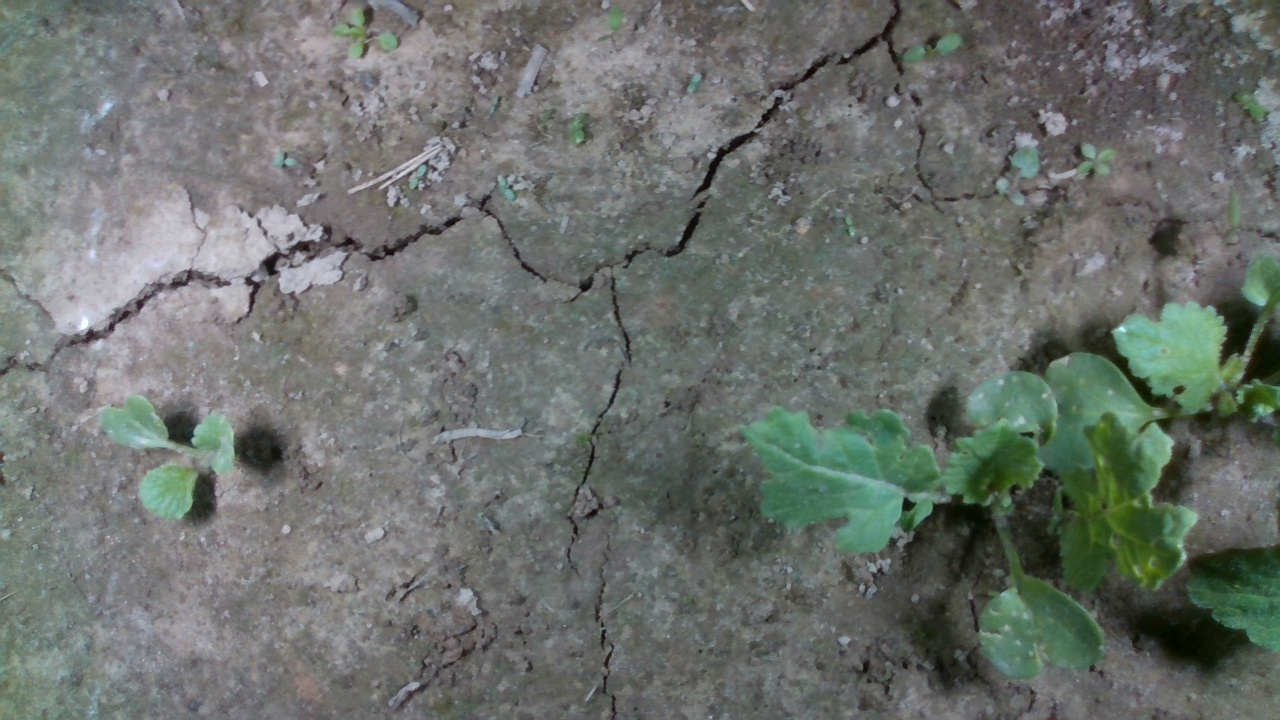weed: (1076, 136, 1121, 177)
